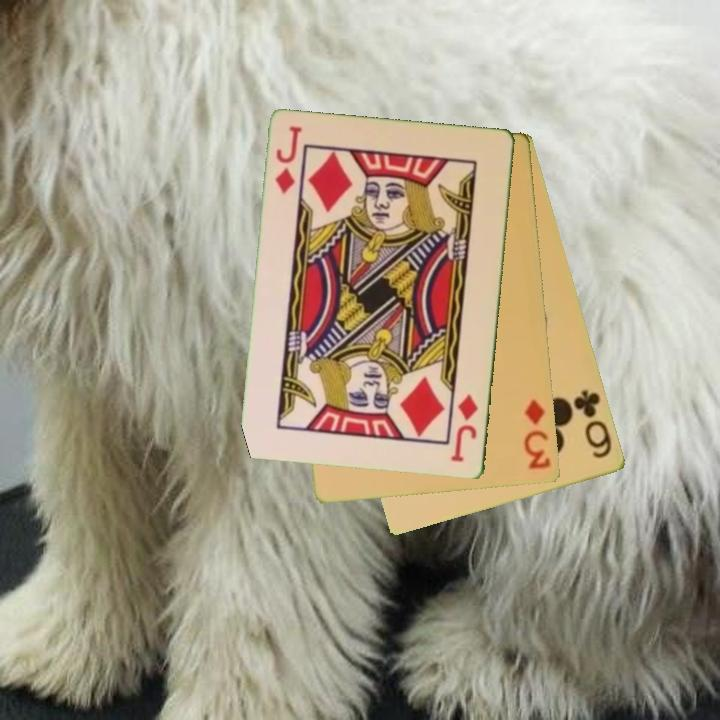3d: (520, 396, 554, 473)
6c: (570, 386, 616, 462)
Jd: (447, 391, 482, 465), (272, 123, 305, 197)
